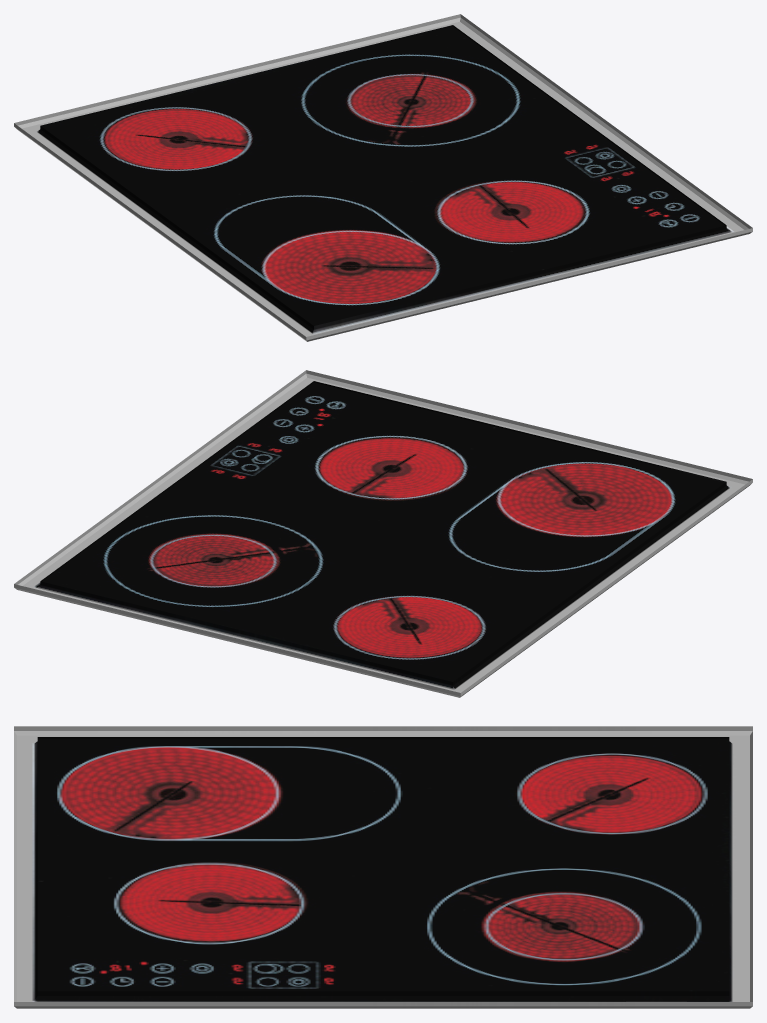
File: Hotplate.FBX
The picture shows the model from 3 angles, top to bottom: view 1: azimuth 30°, elevation 25°; view 2: azimuth 150°, elevation 25°; view 3: azimuth 270°, elevation 25°; orthographic projection. The views are drawn at different scales.
Visible parts, largest first — view 1: hotplate; view 2: hotplate; view 3: hotplate.
Part boxes in pixels (bbox=[...]): hotplate: bbox=[14, 14, 752, 341]; hotplate: bbox=[14, 370, 752, 697]; hotplate: bbox=[14, 726, 752, 1008].
Bounding box in the file's own units: 529 × 7.1 × 600.
Materials: 1 (1 with a texture image).
